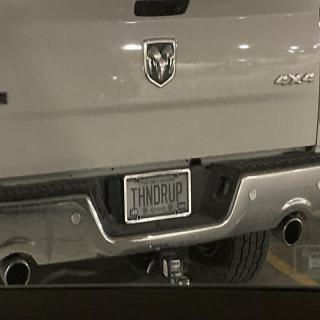license: (125, 169, 193, 226)
